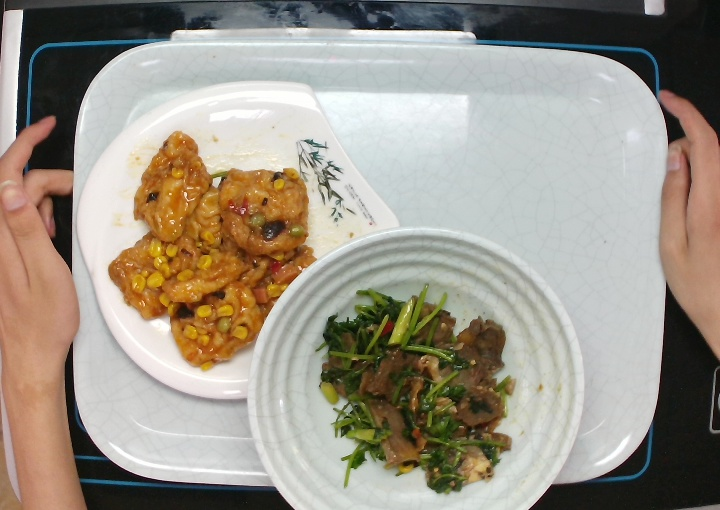JYsf-Da_Tang_Wan: (241, 227, 588, 510)
JYsf-Mian_Pan: (75, 77, 403, 405)
